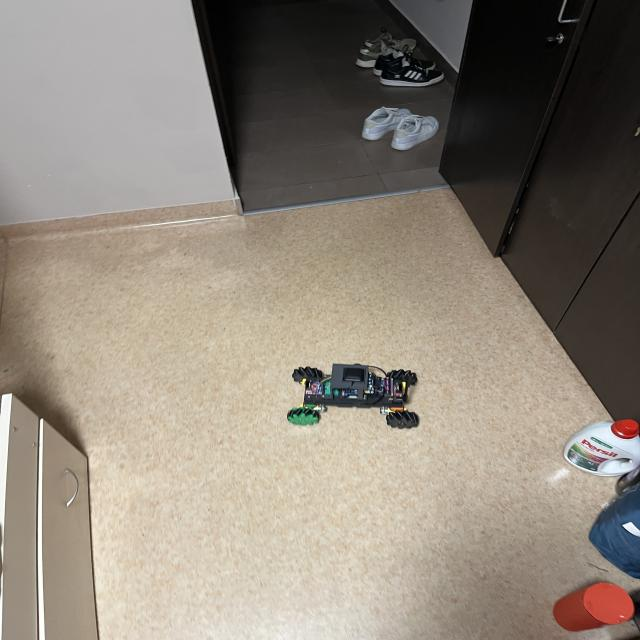robot: (287, 364, 419, 429)
